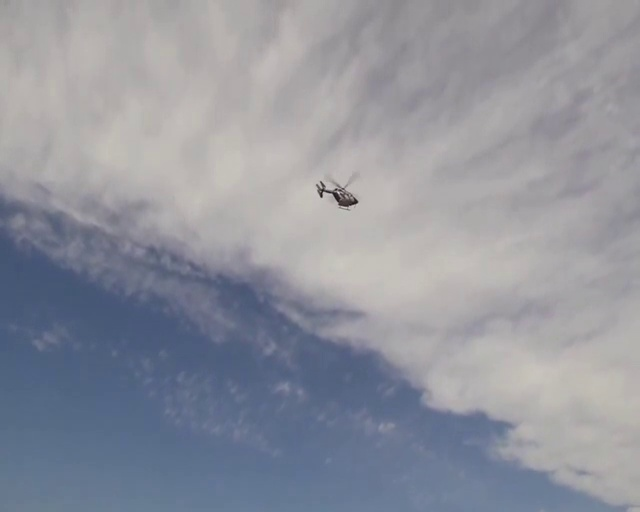HELICOPTER: (316, 169, 362, 210)
